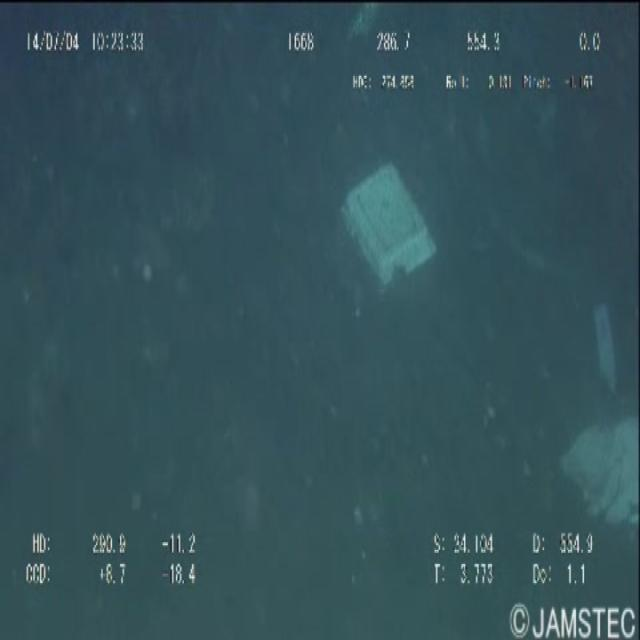Cutlery: (338, 152, 444, 306)
Litter: (586, 287, 622, 395)
Plastic: (552, 413, 640, 541)
